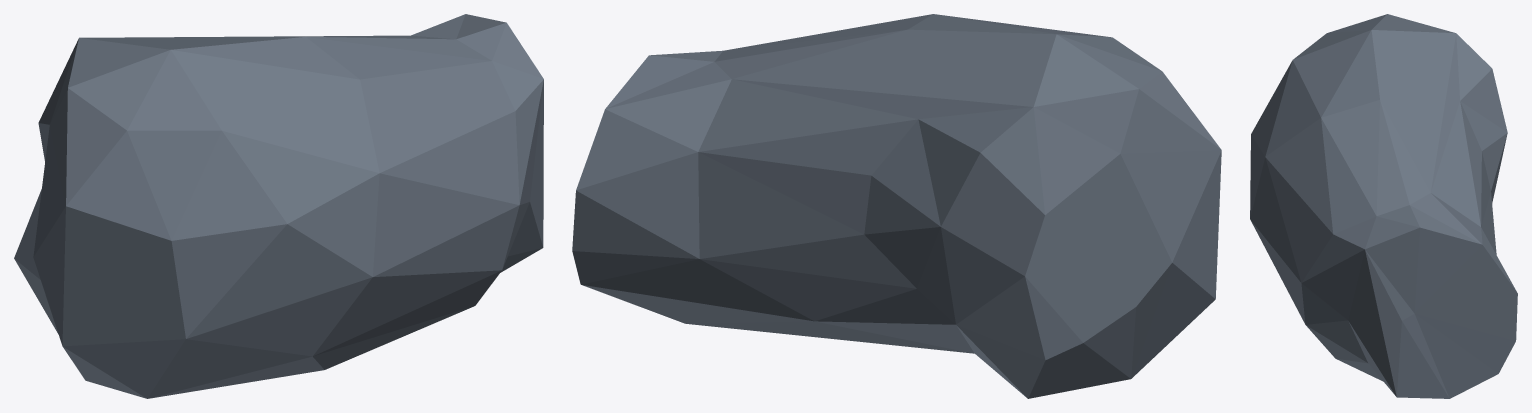
File: white div horn piece 2.glb
3 views of the same model, side by side, from view 1: azimuth 30°, elevation 25°; view 2: azimuth 150°, elevation 25°; view 3: azimuth 270°, elevation 25° (orthographic). The views are drawn at different scales.
Parts seen in each view (by area): view 1: NurbsPath; view 2: NurbsPath; view 3: NurbsPath.
Part boxes in pixels (x1,y1,x2,y2): NurbsPath: (14,14,543,398); NurbsPath: (572,14,1221,398); NurbsPath: (1250,14,1517,398).
Bounding box in the file's own units: 0.3241 × 0.1973 × 0.1937.
